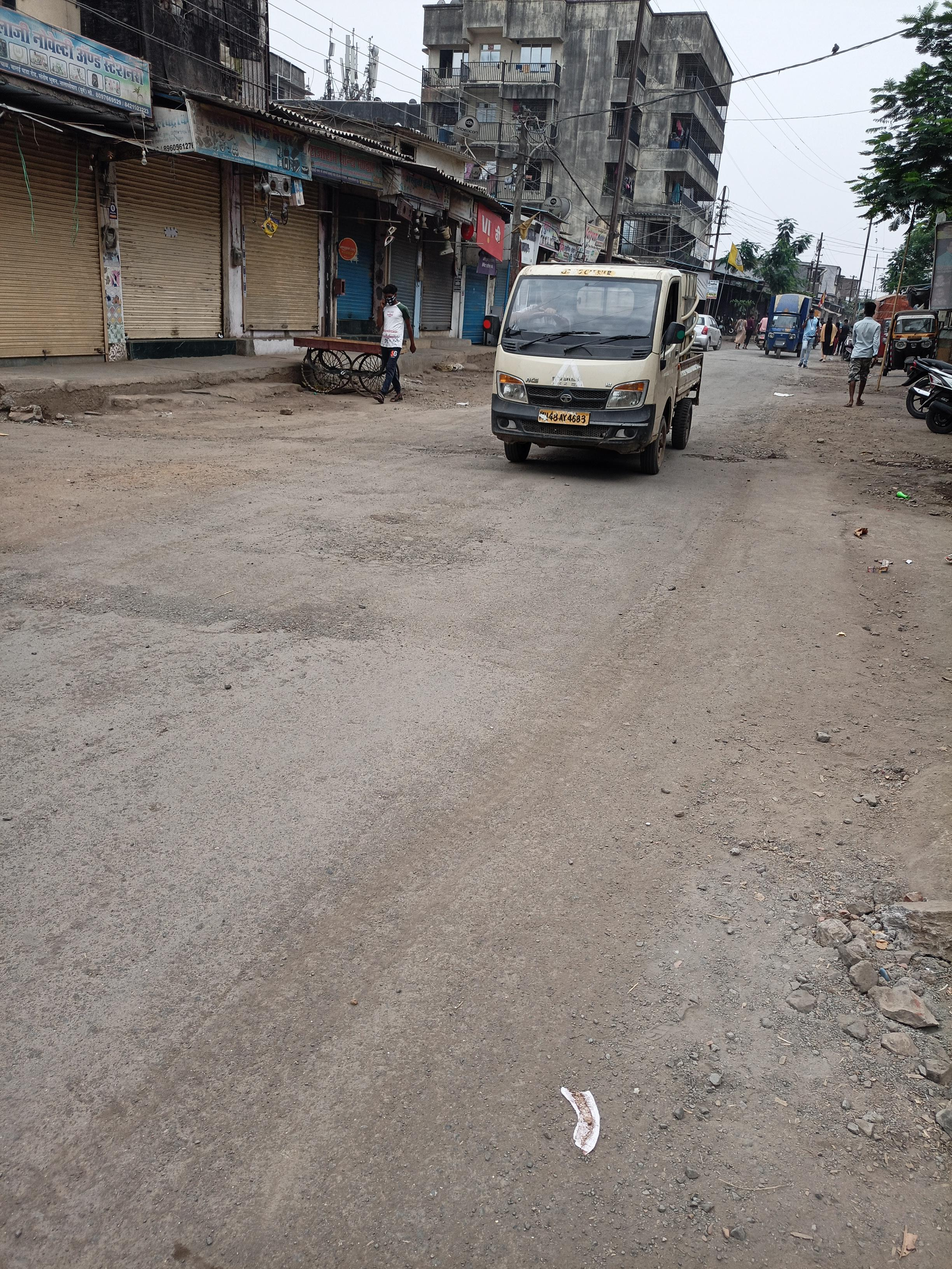non-ambulance: (445, 224, 739, 557)
